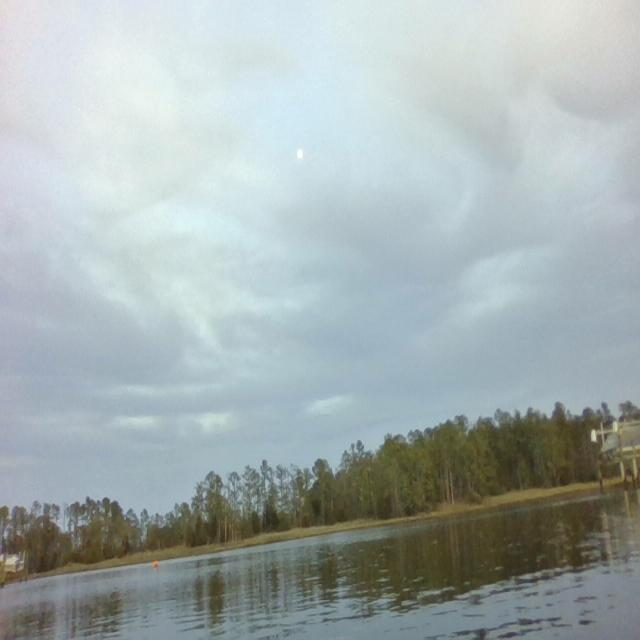Buoy: (153, 557, 161, 572)
